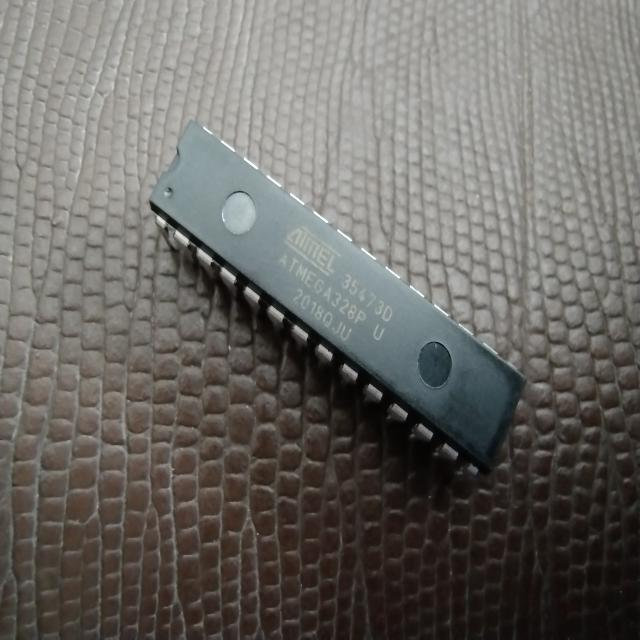atmega: (146, 117, 528, 479)
